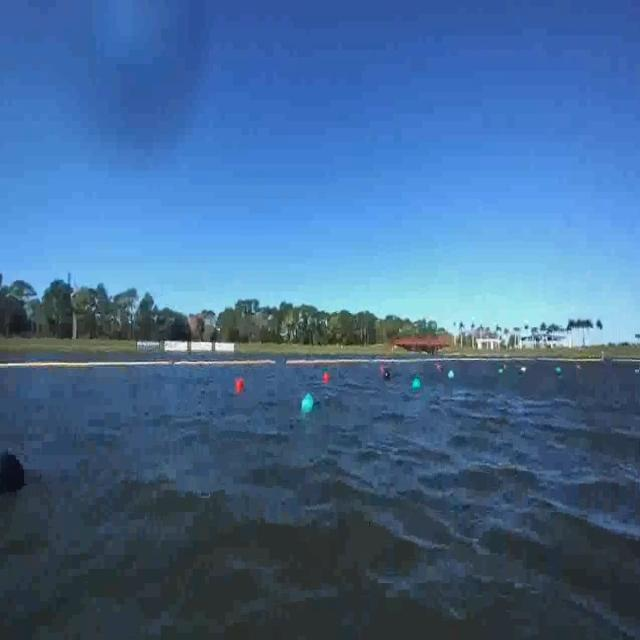green-buoy: (300, 391, 316, 416)
